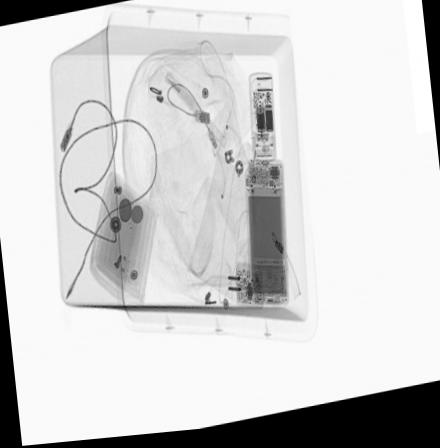Powerbank: (246, 78, 277, 170)
